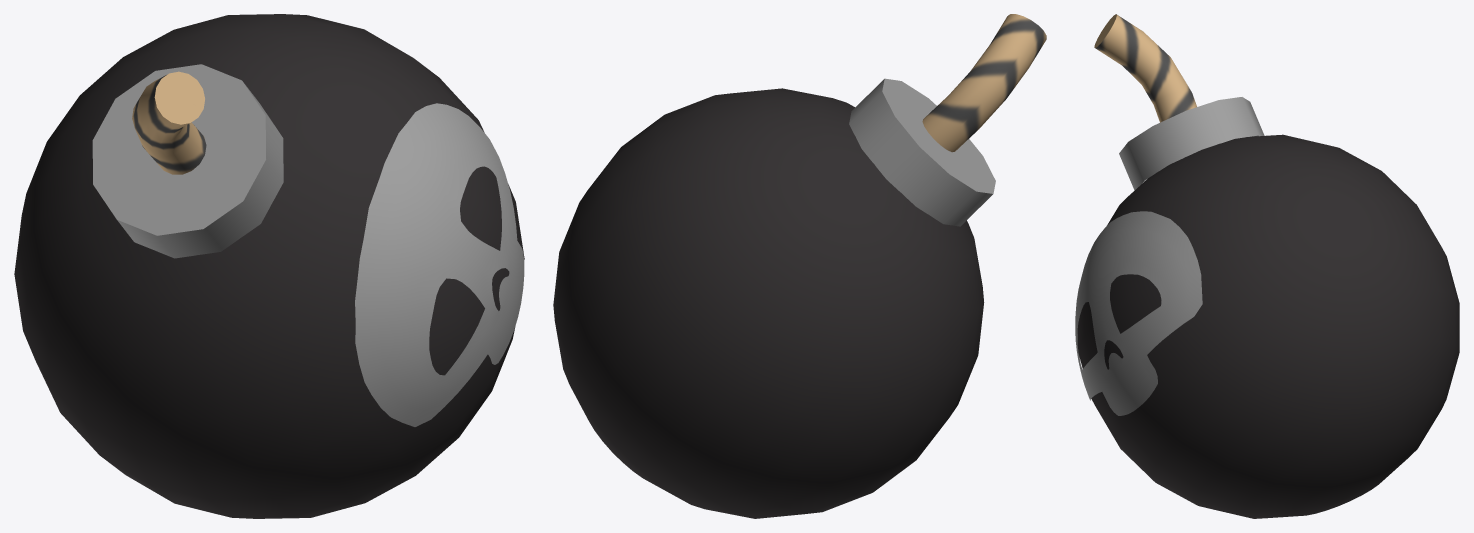
File: zhadan.FBX
The picture shows the model from 3 angles, left to right: view 1: azimuth 30°, elevation 25°; view 2: azimuth 150°, elevation 25°; view 3: azimuth 270°, elevation 25°; orthographic projection. The views are drawn at different scales.
Visible parts, largest first — view 1: 炸弹; view 2: 炸弹; view 3: 炸弹.
Boxes of the visible parts, x1,y1,x2,y2 form: 炸弹: [14, 14, 524, 518]; 炸弹: [553, 14, 1046, 518]; 炸弹: [1075, 14, 1459, 518].
Size of the model in its own units: 93.7 by 111 by 93.84.
